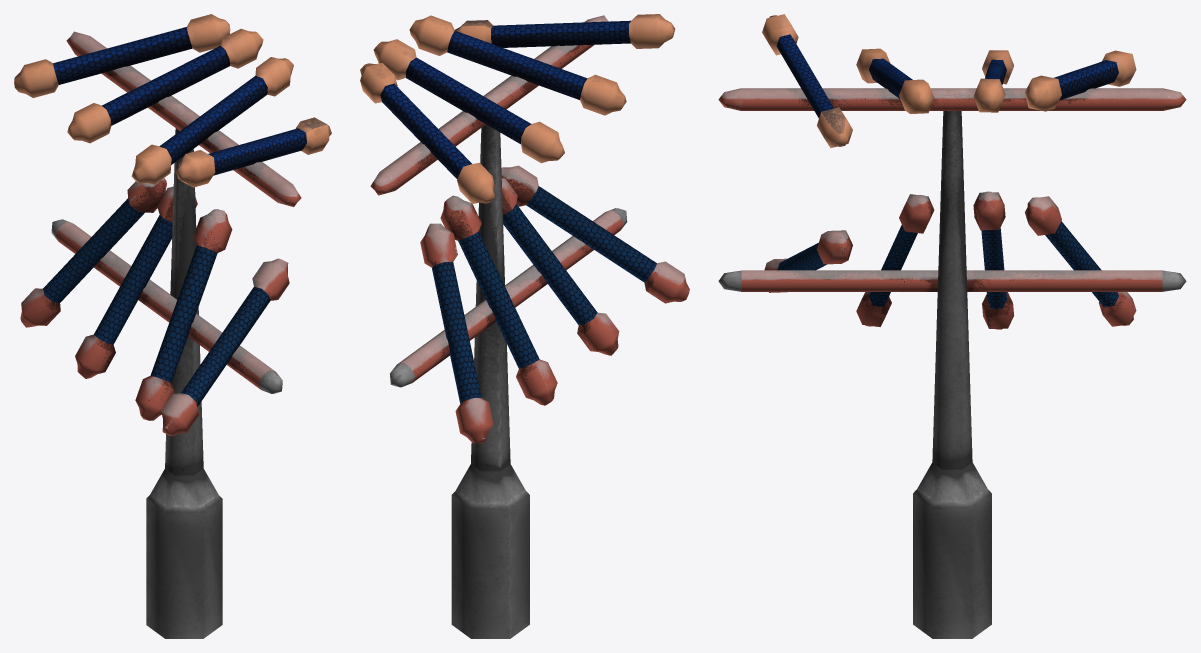
The model's file is SM_Power_Pole_05.fbx.
The picture shows the model from 3 angles, left to right: view 1: azimuth 30°, elevation 25°; view 2: azimuth 150°, elevation 25°; view 3: azimuth 270°, elevation 25°; orthographic projection. The views are drawn at different scales.
Parts seen in each view (by area): view 1: SM_Power_Pole_05; view 2: SM_Power_Pole_05; view 3: SM_Power_Pole_05.
Part boxes in pixels (x1,y1,x2,y2): SM_Power_Pole_05: [14, 14, 331, 638]; SM_Power_Pole_05: [360, 14, 689, 638]; SM_Power_Pole_05: [718, 14, 1186, 638].
Bounding box in the file's own units: 84.84 × 165 × 226.
1 material, 1 textured.
